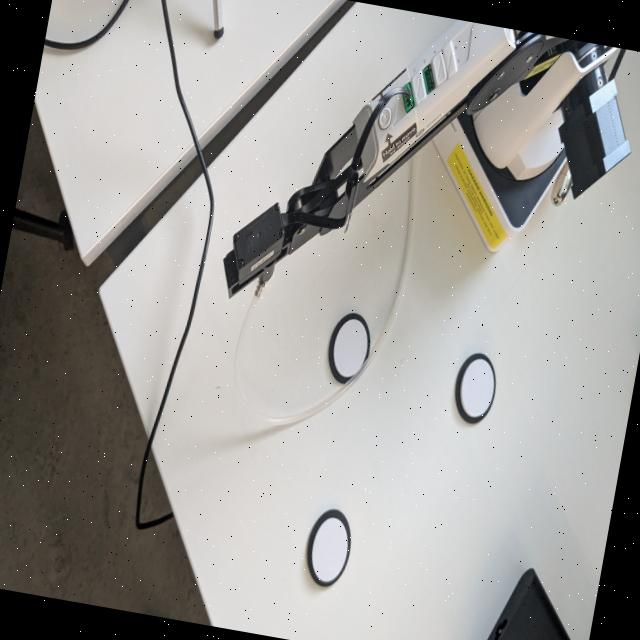Robot-end-effector-HF8z: (214, 190, 292, 308)
